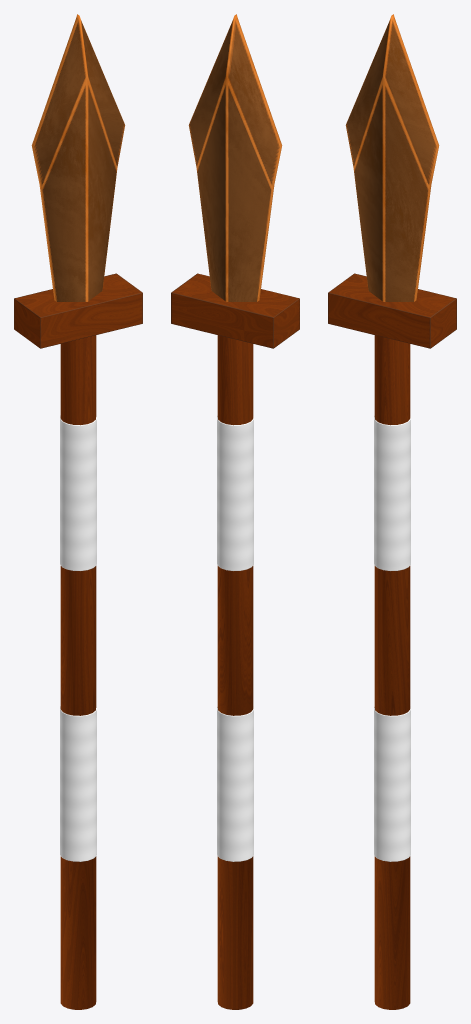
File: Spear.fbx
The picture shows the model from 3 angles, left to right: view 1: azimuth 30°, elevation 25°; view 2: azimuth 150°, elevation 25°; view 3: azimuth 330°, elevation 25°; orthographic projection.
Visible parts, largest first — view 1: Blade, Handle, Crossguard, Grip_Btm, Grip_Top; view 2: Blade, Handle, Crossguard, Grip_Btm, Grip_Top; view 3: Blade, Handle, Crossguard, Grip_Btm, Grip_Top.
Part boxes in pixels (box(x1,y1,x2,y2)): Blade: box(31, 14, 125, 301); Handle: box(60, 335, 96, 1009); Crossguard: box(14, 273, 142, 348); Grip_Btm: box(60, 706, 96, 861); Grip_Top: box(60, 415, 96, 570); Blade: box(188, 14, 282, 301); Handle: box(217, 335, 253, 1009); Crossguard: box(171, 273, 299, 348); Grip_Btm: box(217, 706, 253, 861); Grip_Top: box(217, 415, 253, 570); Blade: box(345, 14, 439, 301); Handle: box(374, 335, 410, 1009); Crossguard: box(328, 273, 456, 348); Grip_Btm: box(374, 706, 410, 861); Grip_Top: box(374, 415, 410, 570).
Bounding box in the file's own units: 91.46 × 843 × 40.73.
Materials: 1 (1 with a texture image).
